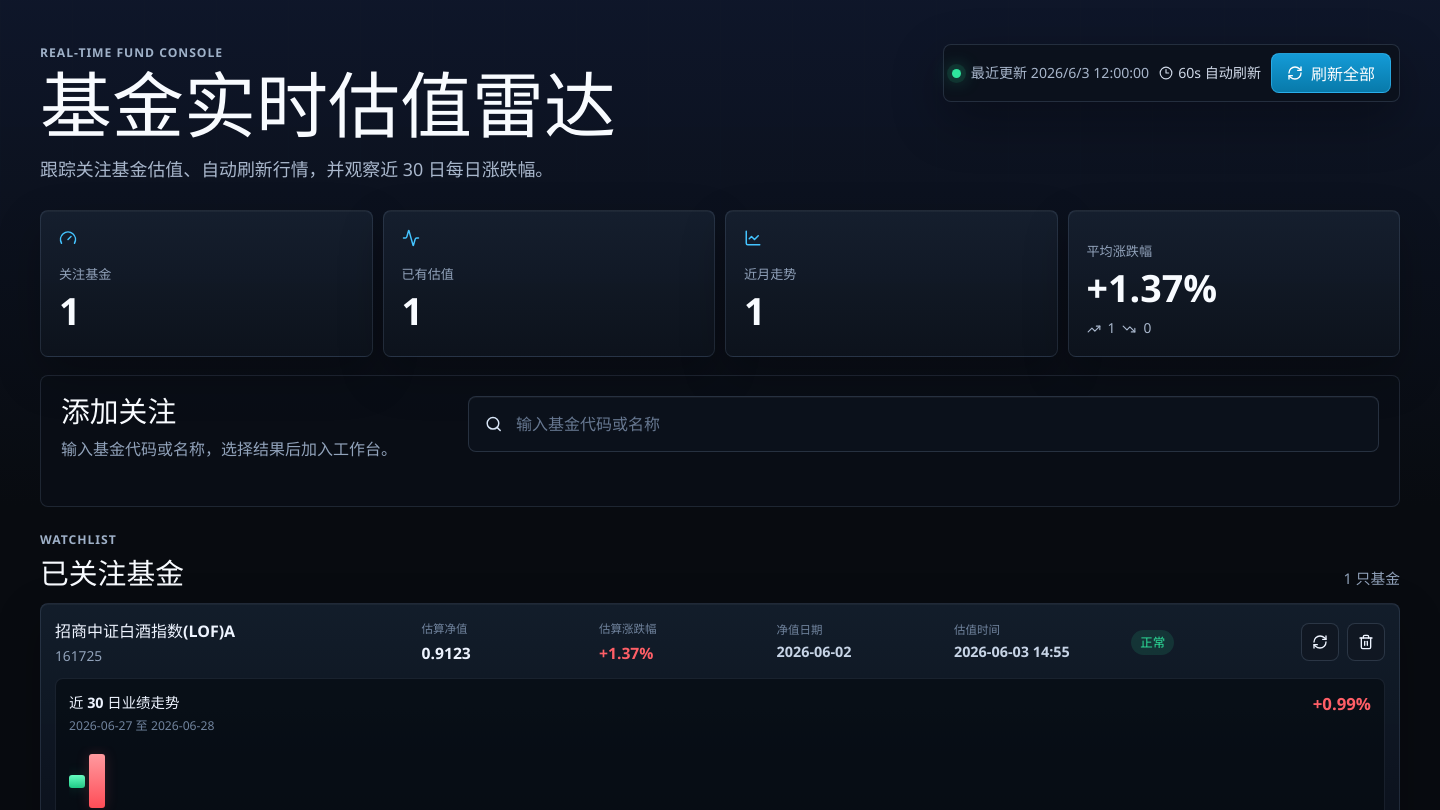
App › removes a watched fund from local storage
The image size is (1440, 810).
Click the button named "移除 招商中证白酒指数(LOF)A" at (1366, 642), box [1347, 623, 1385, 661]
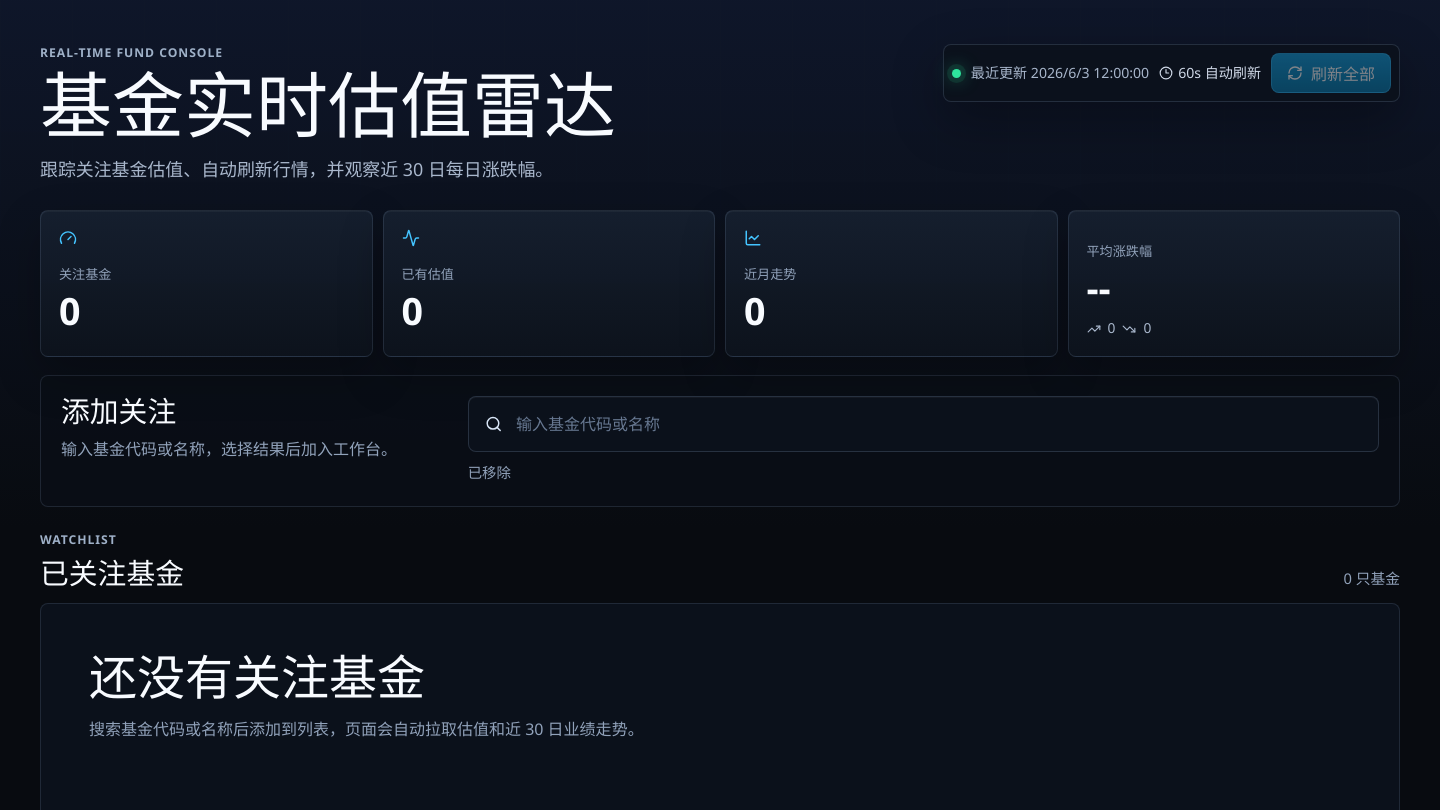
Result: the heading "还没有关注基金" is shown at [89, 645, 425, 710]
